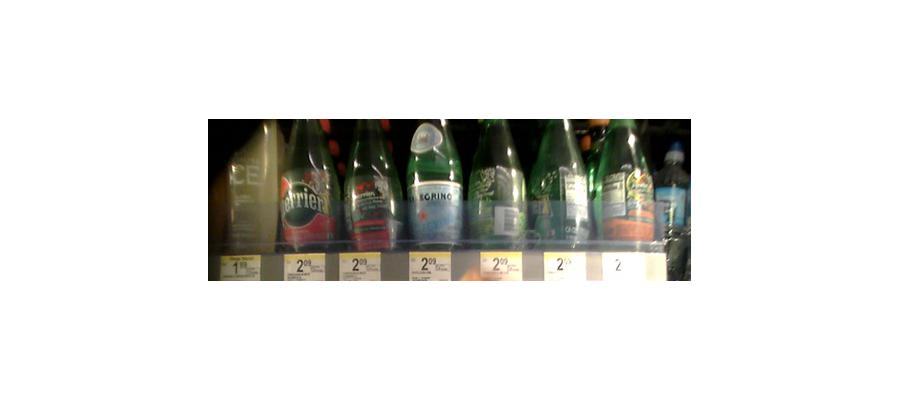bottle: (529, 117, 590, 249), (342, 119, 401, 255), (403, 117, 464, 246), (467, 115, 524, 249), (594, 116, 652, 246), (282, 119, 339, 251), (225, 116, 279, 250)
